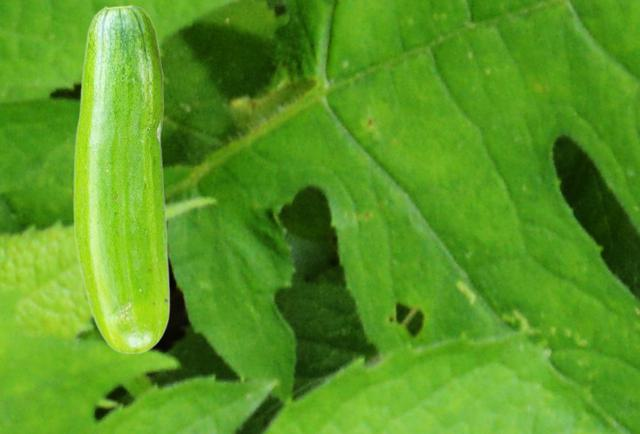cucumber: (73, 4, 169, 353)
